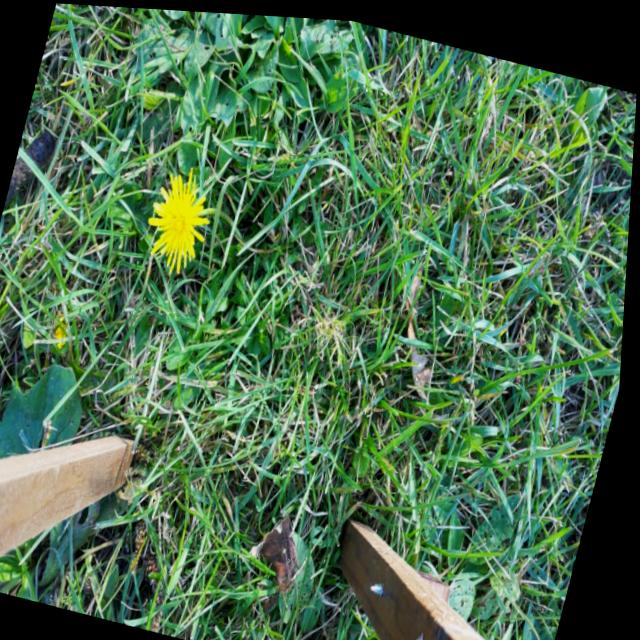base: (227, 215, 257, 258)
